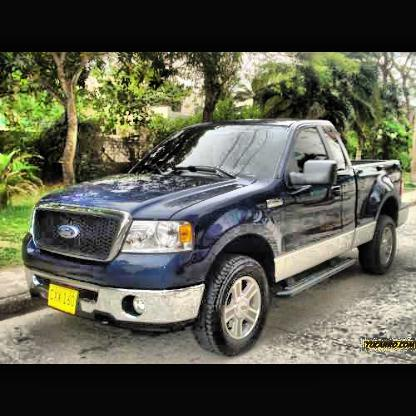Ford F-150 Regular Cab 2007: (22, 119, 410, 360)
